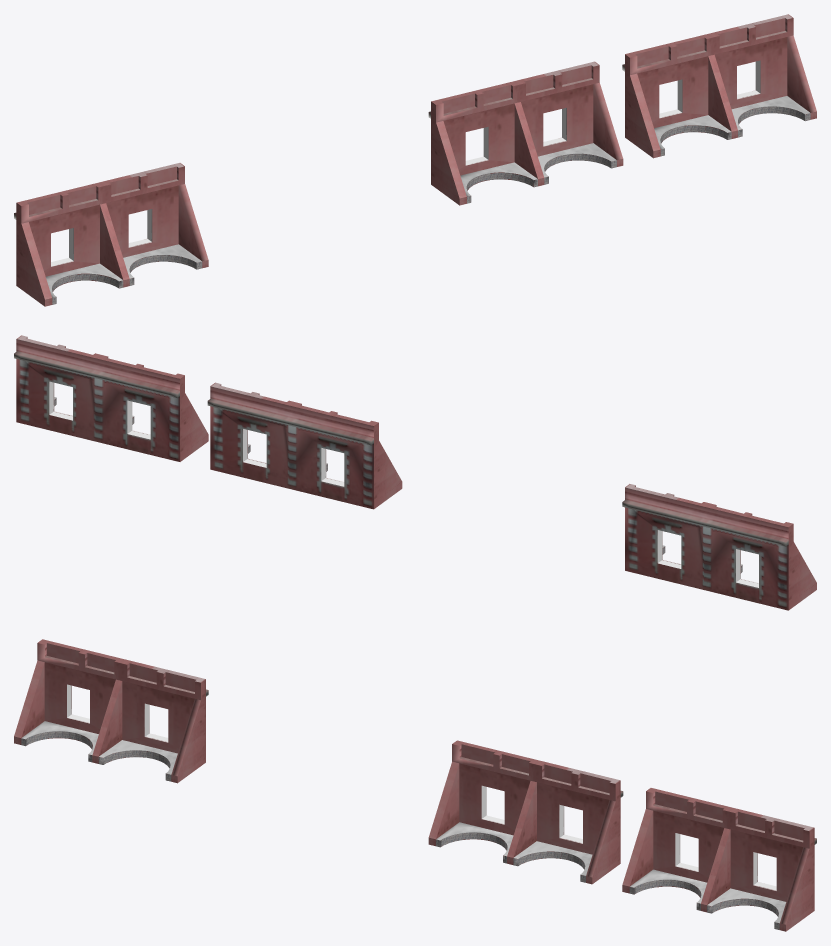
Rendered from Garitas_Marcelo T Alvear.fbx.
3 views of the same model, one above another, from view 1: azimuth 30°, elevation 25°; view 2: azimuth 150°, elevation 25°; view 3: azimuth 330°, elevation 25° (orthographic).
Visible parts, largest first — view 1: Plane.003; view 2: Plane.003; view 3: Plane.003.
Part boxes in pixels (left/top/right/bottom): Plane.003: left=14, top=14, right=816, bottom=306; Plane.003: left=14, top=335, right=816, bottom=610; Plane.003: left=14, top=639, right=816, bottom=931.
Size of the model in its own units: 98.94 by 10.2 by 6.87.
